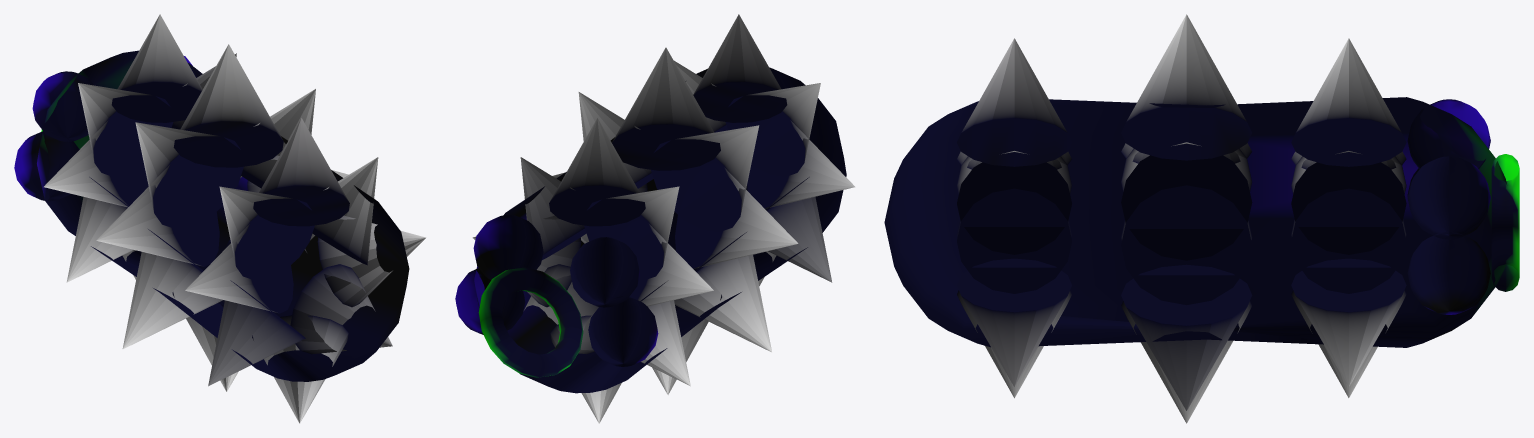
Rendered from lucksucker.glb.
3 views of the same model, side by side, from view 1: azimuth 30°, elevation 25°; view 2: azimuth 150°, elevation 25°; view 3: azimuth 270°, elevation 25° (orthographic). The views are drawn at different scales.
Visible parts, largest first — view 1: Sewersucker; view 2: Sewersucker; view 3: Sewersucker.
Part boxes in pixels (bbox=[...]): Sewersucker: bbox=[14, 14, 425, 423]; Sewersucker: bbox=[455, 14, 854, 423]; Sewersucker: bbox=[884, 14, 1519, 423].
Bounding box in the file's own units: 0.5946 × 0.7188 × 1.01.
